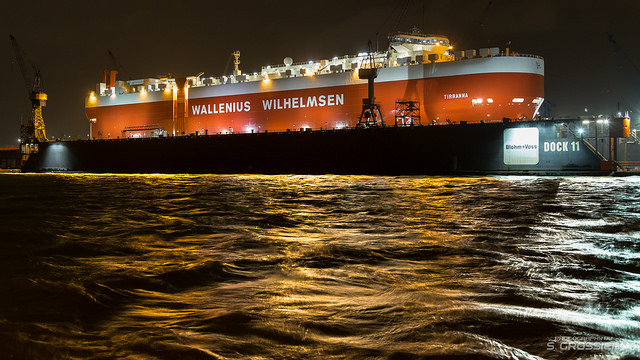PCC: (84, 27, 548, 126)
